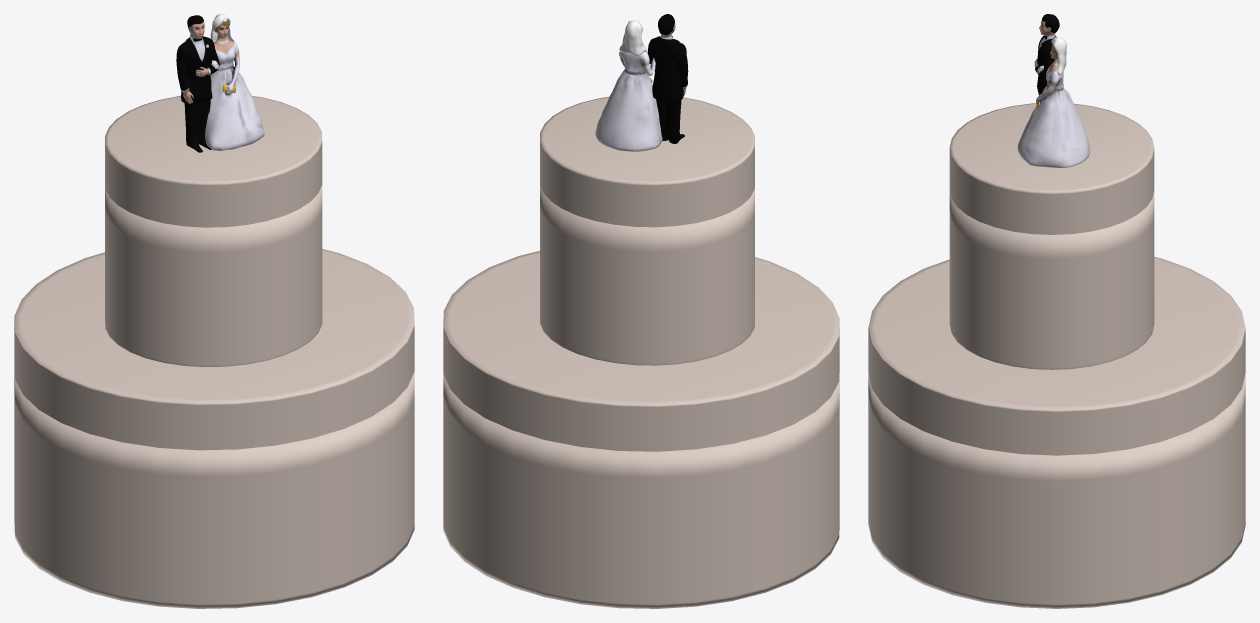
Rendered from 2-tier-white-none-bridegroom.glb.
3 renders of one model, left to right at view 1: azimuth 30°, elevation 25°; view 2: azimuth 150°, elevation 25°; view 3: azimuth 270°, elevation 25°, orthographic. The views are drawn at different scales.
Parts seen in each view (by area): view 1: Cylinder.023, Cylinder.013, 13501_Cake_Topper_Bride_Groom_v1_L1.003; view 2: Cylinder.023, Cylinder.013, 13501_Cake_Topper_Bride_Groom_v1_L1.003; view 3: Cylinder.023, Cylinder.013, 13501_Cake_Topper_Bride_Groom_v1_L1.003.
Boxes of the visible parts, x1=… form: Cylinder.023: x1=14, y1=249, x2=414, y2=608; Cylinder.013: x1=105, y1=96, x2=322, y2=366; 13501_Cake_Topper_Bride_Groom_v1_L1.003: x1=176, y1=14, x2=264, y2=152; Cylinder.023: x1=443, y1=251, x2=839, y2=608; Cylinder.013: x1=540, y1=97, x2=754, y2=365; 13501_Cake_Topper_Bride_Groom_v1_L1.003: x1=595, y1=14, x2=688, y2=151; Cylinder.023: x1=868, y1=256, x2=1245, y2=608; Cylinder.013: x1=949, y1=103, x2=1154, y2=369; 13501_Cake_Topper_Bride_Groom_v1_L1.003: x1=1017, y1=14, x2=1089, y2=167.
Bounding box in the file's own units: 3.4 × 4.79 × 3.27.
Materials: 2 (1 with a texture image).
